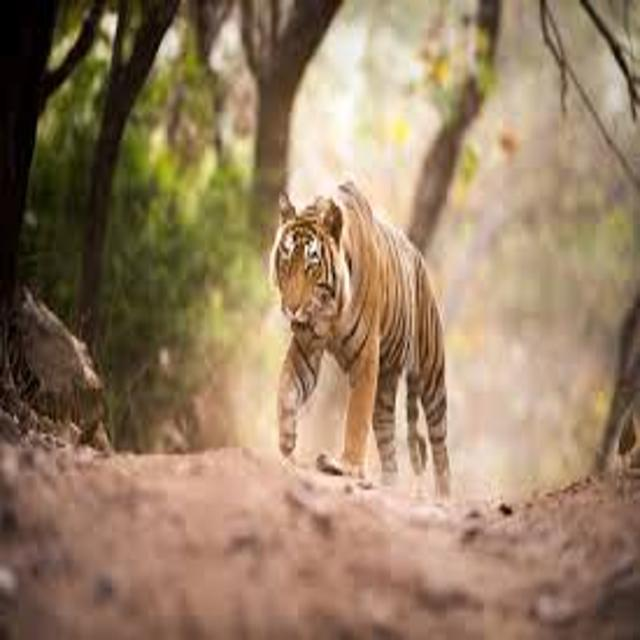tiger: (222, 144, 490, 547)
